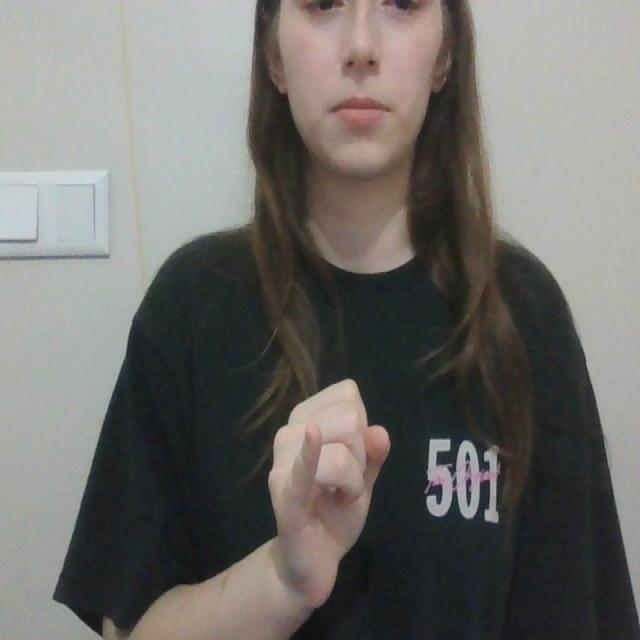kotu: (262, 369, 394, 555)
